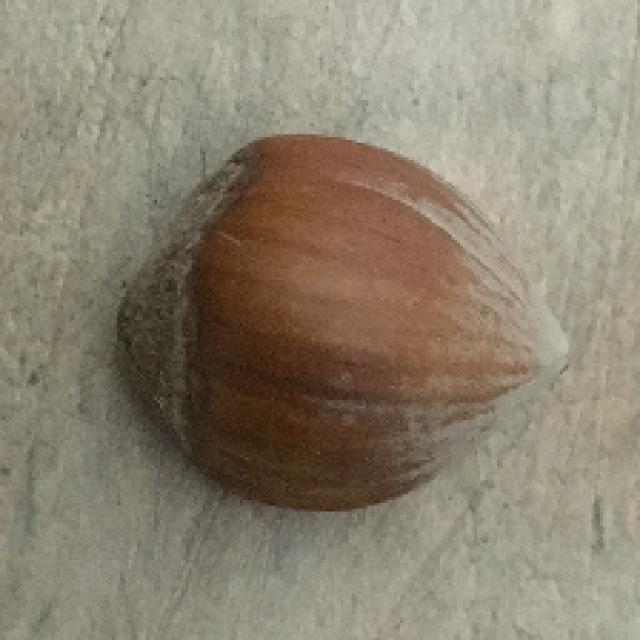qualityHazelnut: (97, 121, 576, 524)
